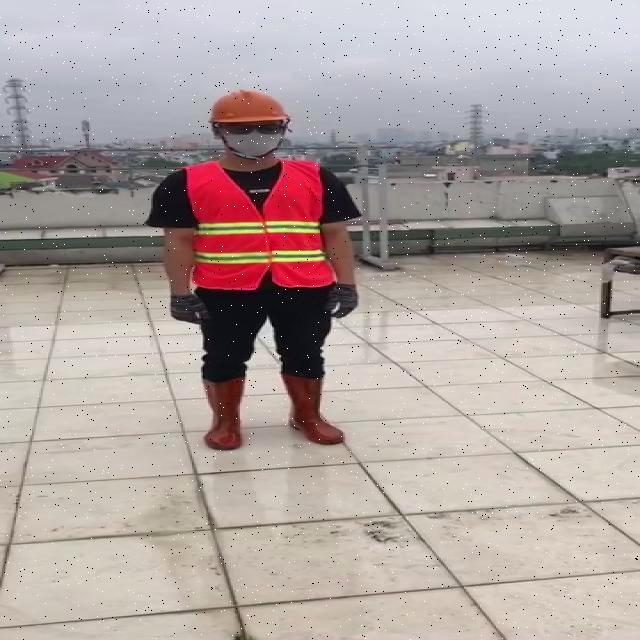Hard_hat: (200, 89, 294, 136)
Vest: (187, 155, 335, 292)
